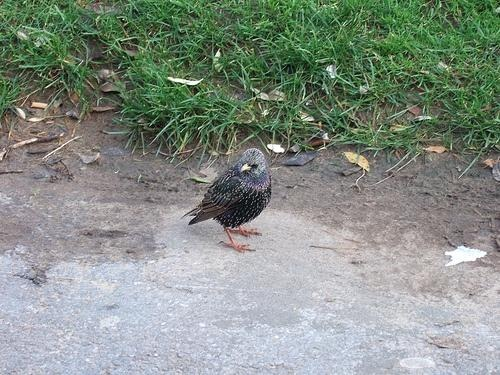bird: (181, 148, 272, 251)
